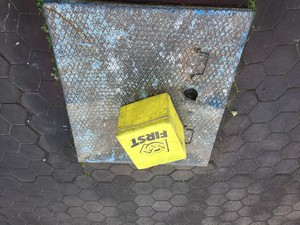cube: (117, 93, 187, 170)
